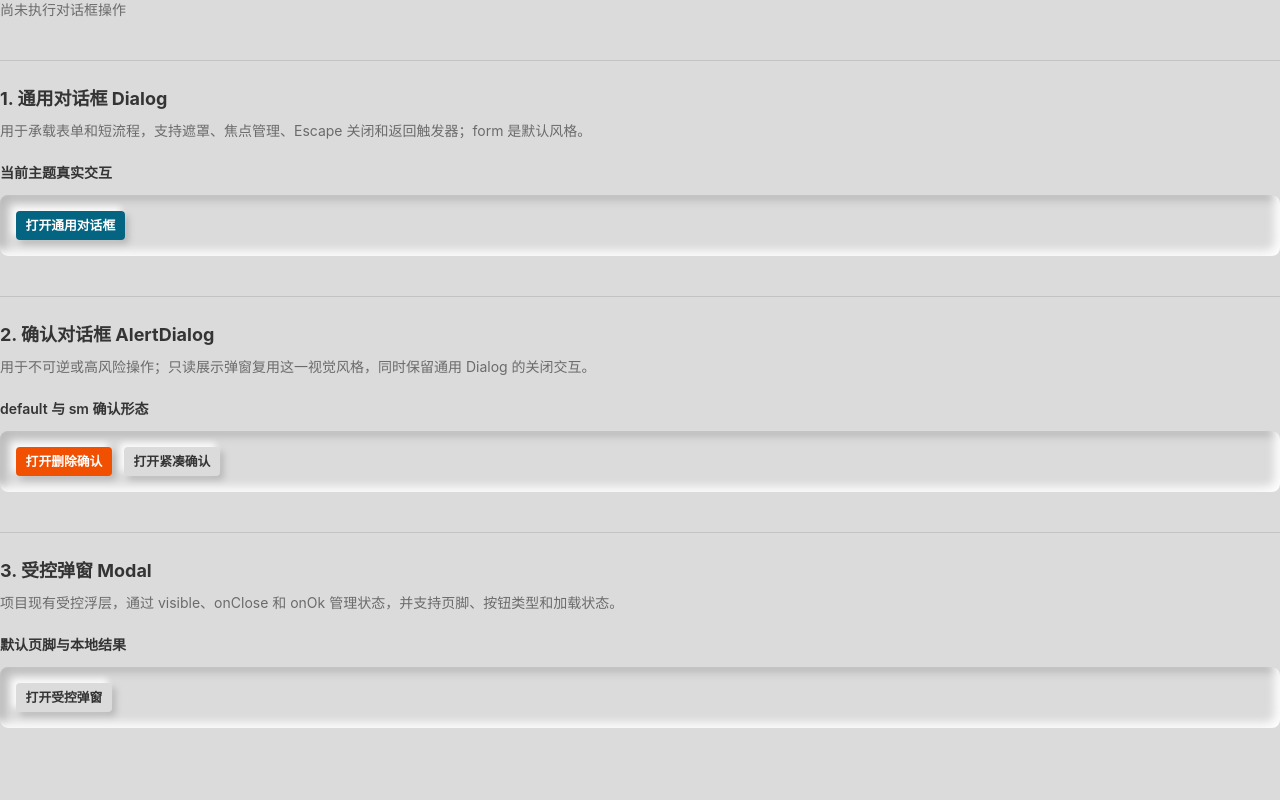
Scenario: DialogDemo › keeps the legacy Modal result inside local state
Click the button "打开受控弹窗": (64, 698) [16,683,112,712]
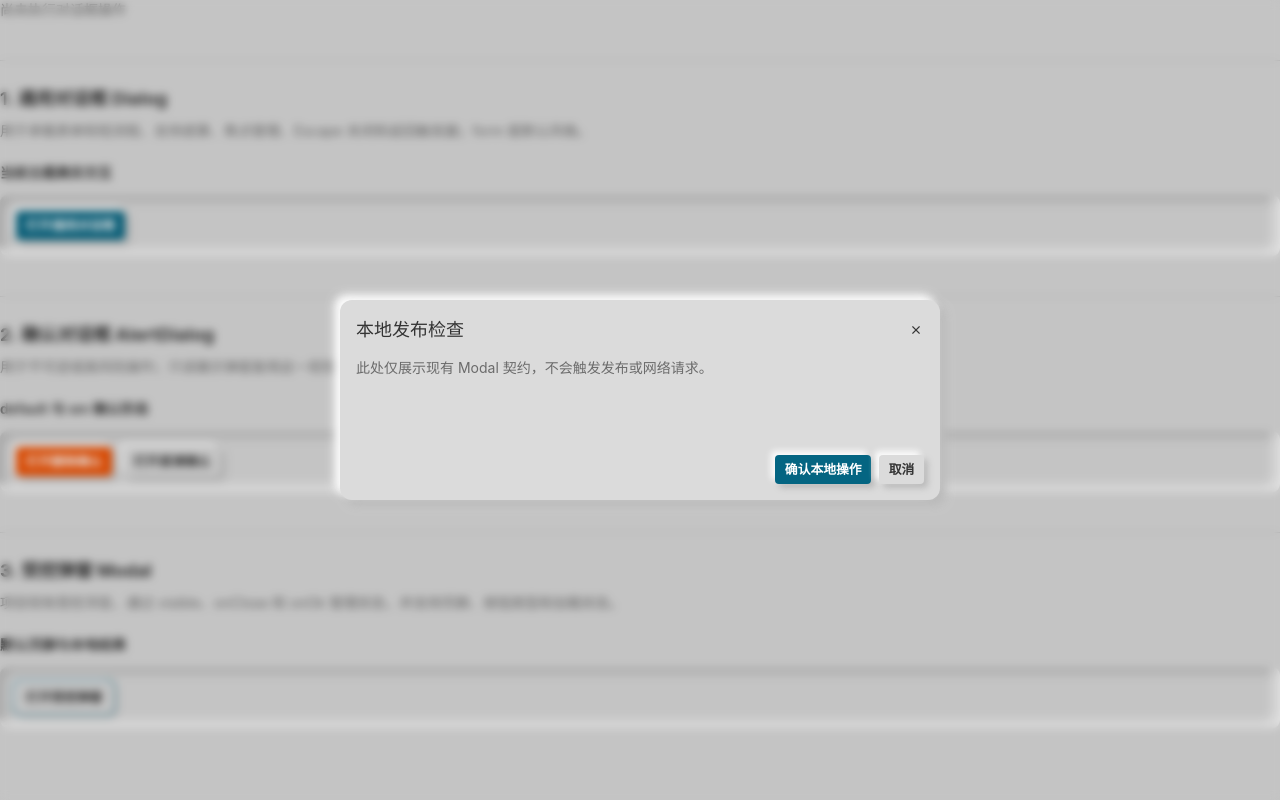
Check: the text "本地发布检查" is shown, box [356,316,464,344]
Click the button "确认本地操作": (823, 470) [775,455,871,484]
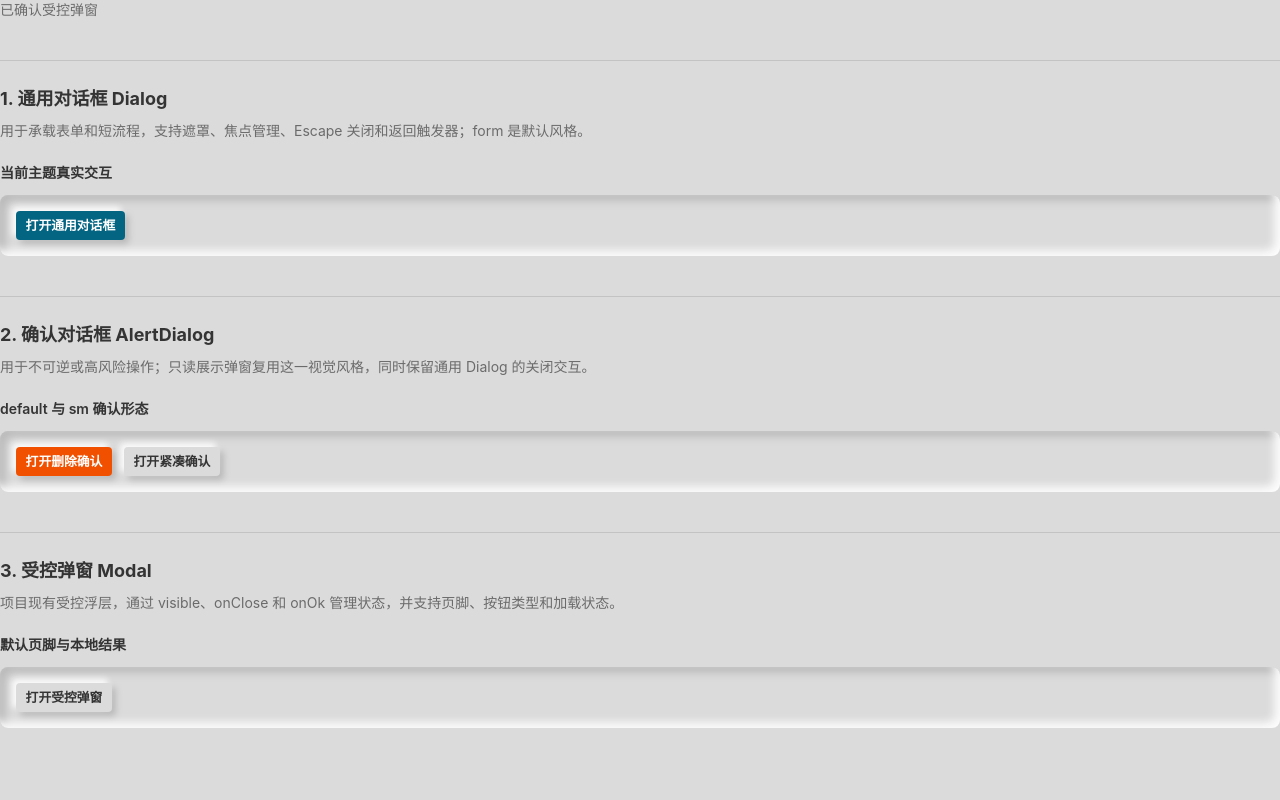
Check: the text "已确认受控弹窗" is shown, box [0,1,98,18]
